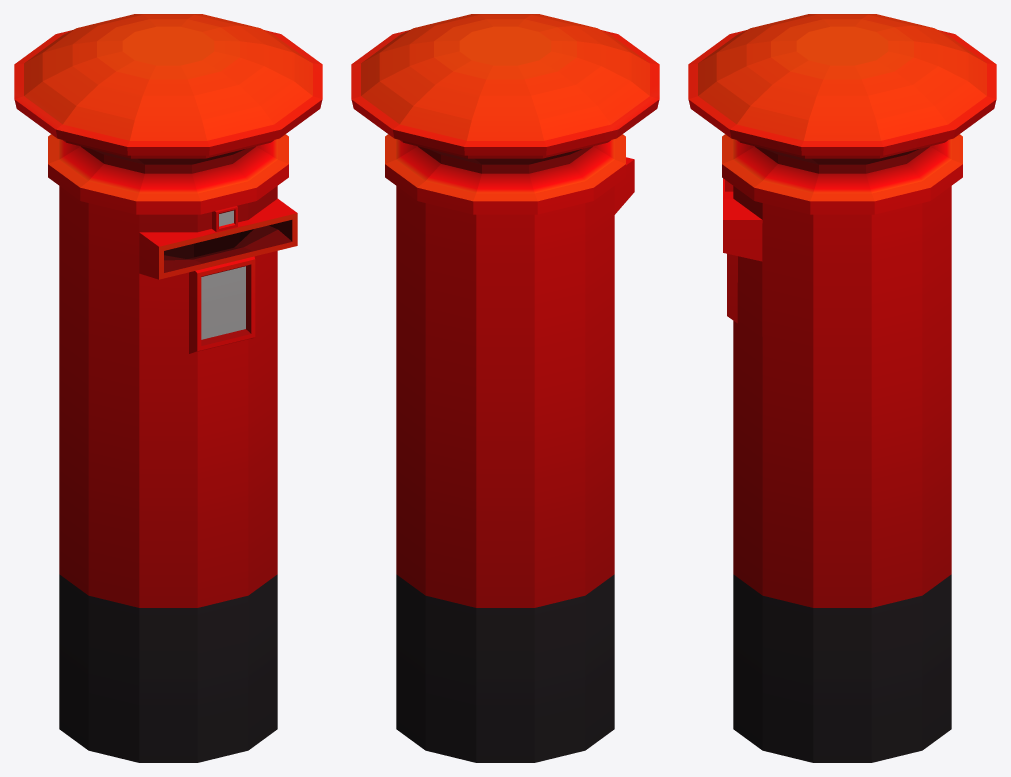
The model's file is boxpostal.glb.
The picture shows the model from 3 angles, left to right: view 1: azimuth 30°, elevation 25°; view 2: azimuth 150°, elevation 25°; view 3: azimuth 270°, elevation 25°; orthographic projection.
Parts seen in each view (by area): view 1: Cylinder.001_1, Cylinder_0; view 2: Cylinder.001_1, Cylinder_0; view 3: Cylinder.001_1, Cylinder_0.
Boxes of the visible parts, x1,y1,x2,y2 form: Cylinder.001_1: [14, 14, 322, 762]; Cylinder_0: [139, 186, 297, 607]; Cylinder.001_1: [351, 14, 659, 762]; Cylinder_0: [614, 157, 634, 214]; Cylinder.001_1: [688, 14, 996, 762]; Cylinder_0: [723, 178, 762, 595].
Size of the model in its own units: 1.23 by 2.94 by 1.23.
Materials: 1 (1 with a texture image).
